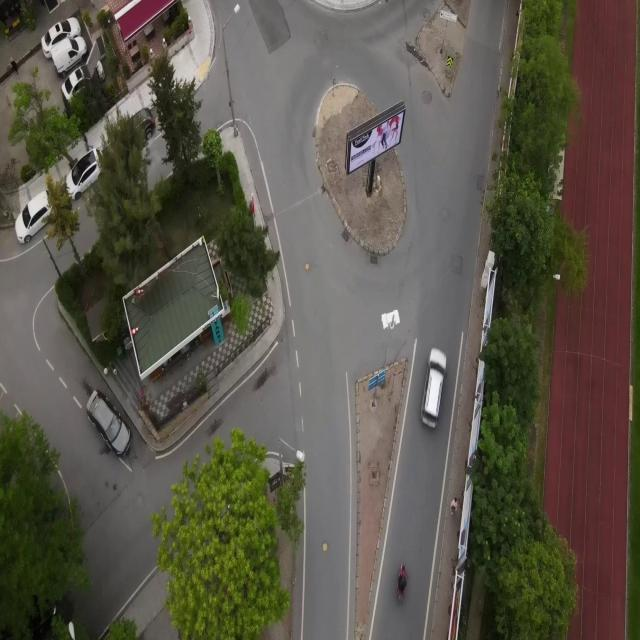p3rson: (449, 495, 458, 516)
